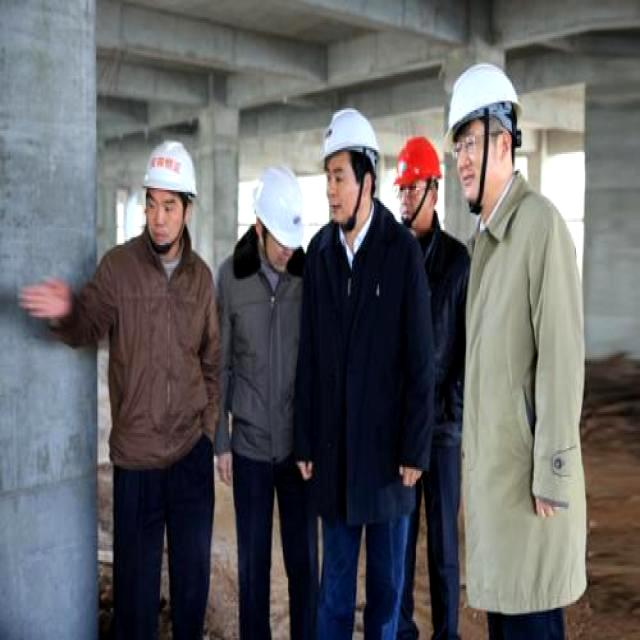hard_hat: (448, 63, 518, 129), (255, 167, 302, 249), (324, 108, 378, 163), (143, 139, 196, 194), (394, 137, 440, 188)
person: (20, 141, 219, 638), (449, 63, 585, 638), (294, 110, 434, 638), (215, 169, 316, 638), (394, 137, 468, 638)
